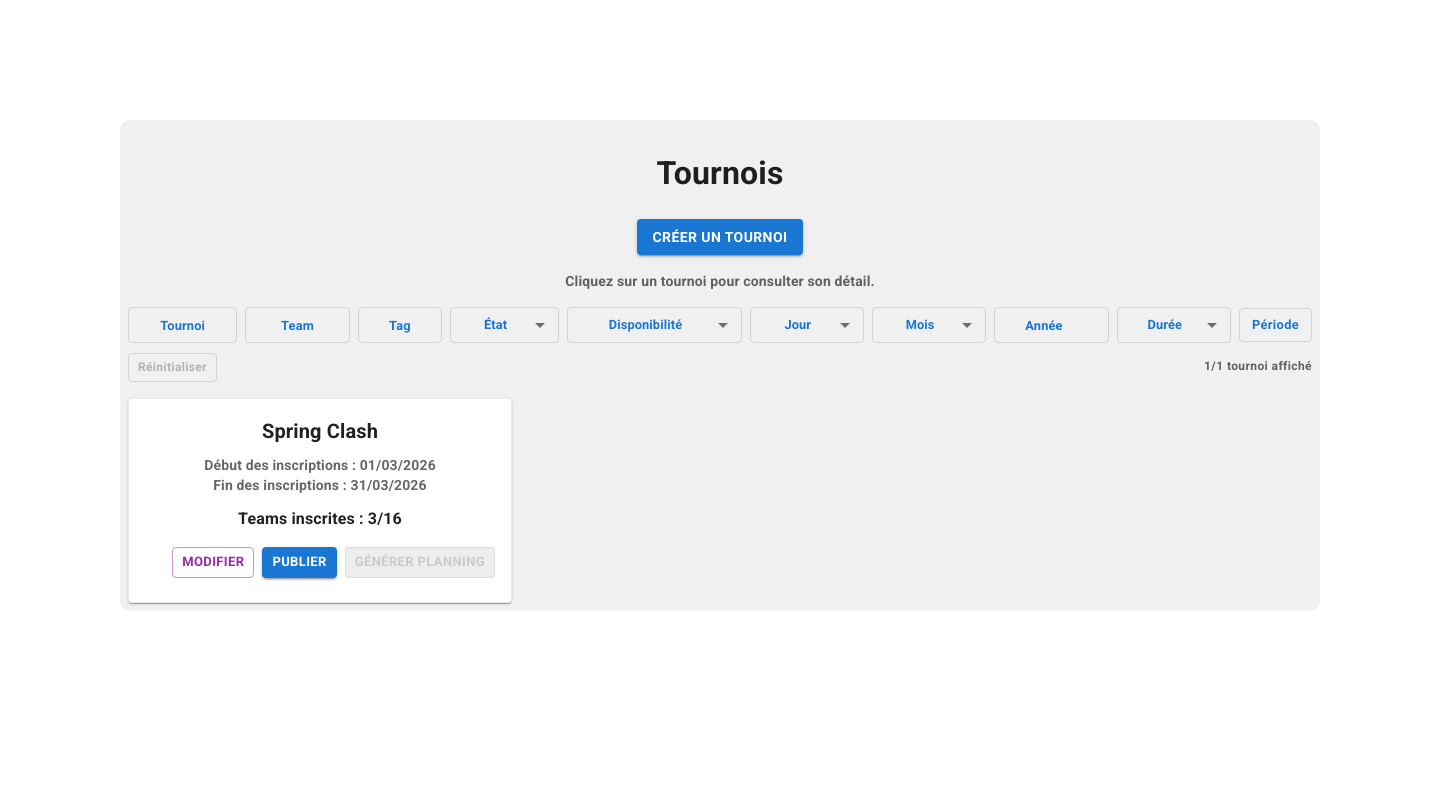
Test: TournamentPage › renders the creation dialog for an admin user after clicking create
Click the button "Créer un tournoi" at (720, 237), box [636,219,803,255]
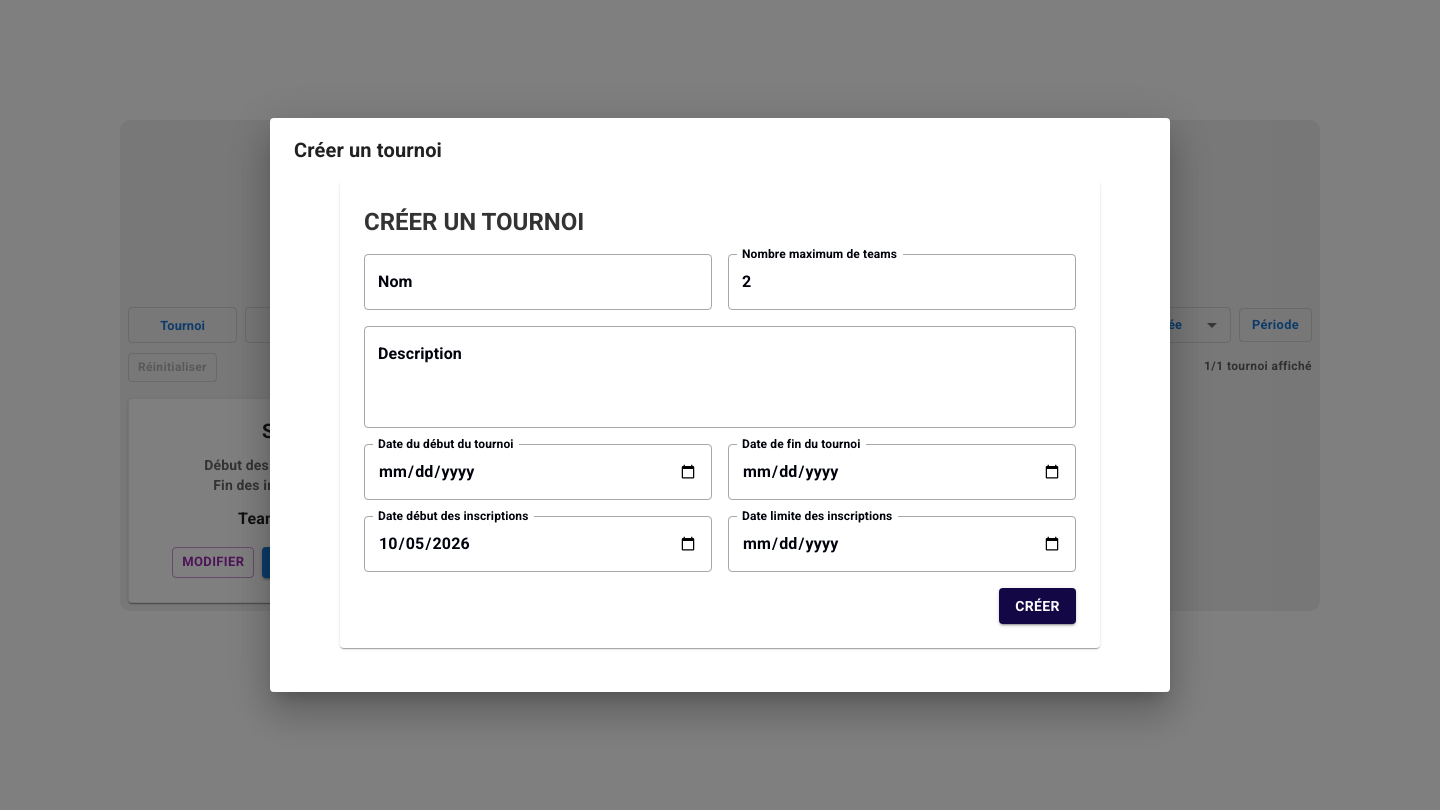
Now the dialog is shown, box [270,118,1170,692]
Now the field labelled "Nom" is shown, box [364,254,712,310]
Now the button "Créer" is shown, box [999,588,1076,624]
